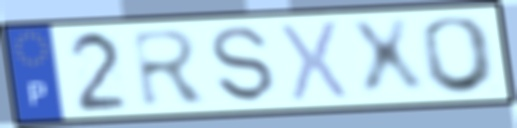2: (68, 28, 130, 114)
O: (419, 13, 501, 96)
R: (128, 27, 213, 110)
S: (208, 24, 279, 105)
X: (344, 16, 431, 101), (277, 18, 351, 104)
